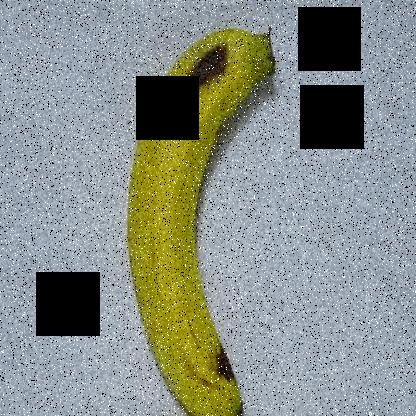freshripe: (116, 12, 288, 415)
